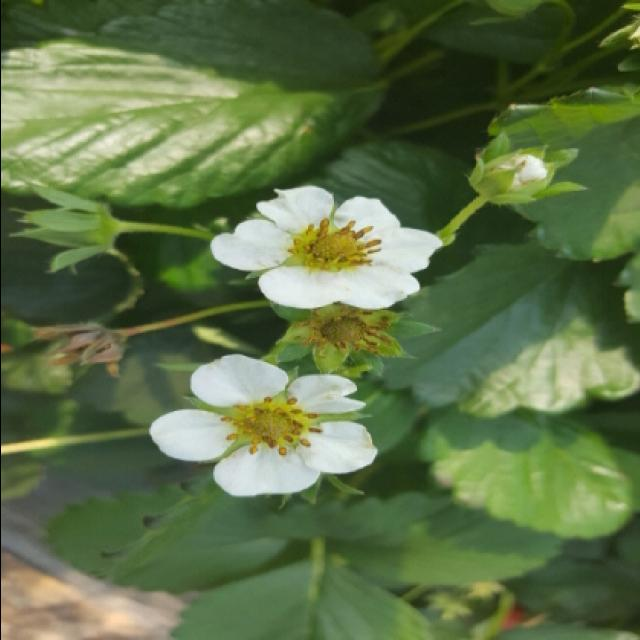Blossom Blight: (219, 392, 327, 461), (284, 210, 384, 275), (311, 306, 389, 355)
